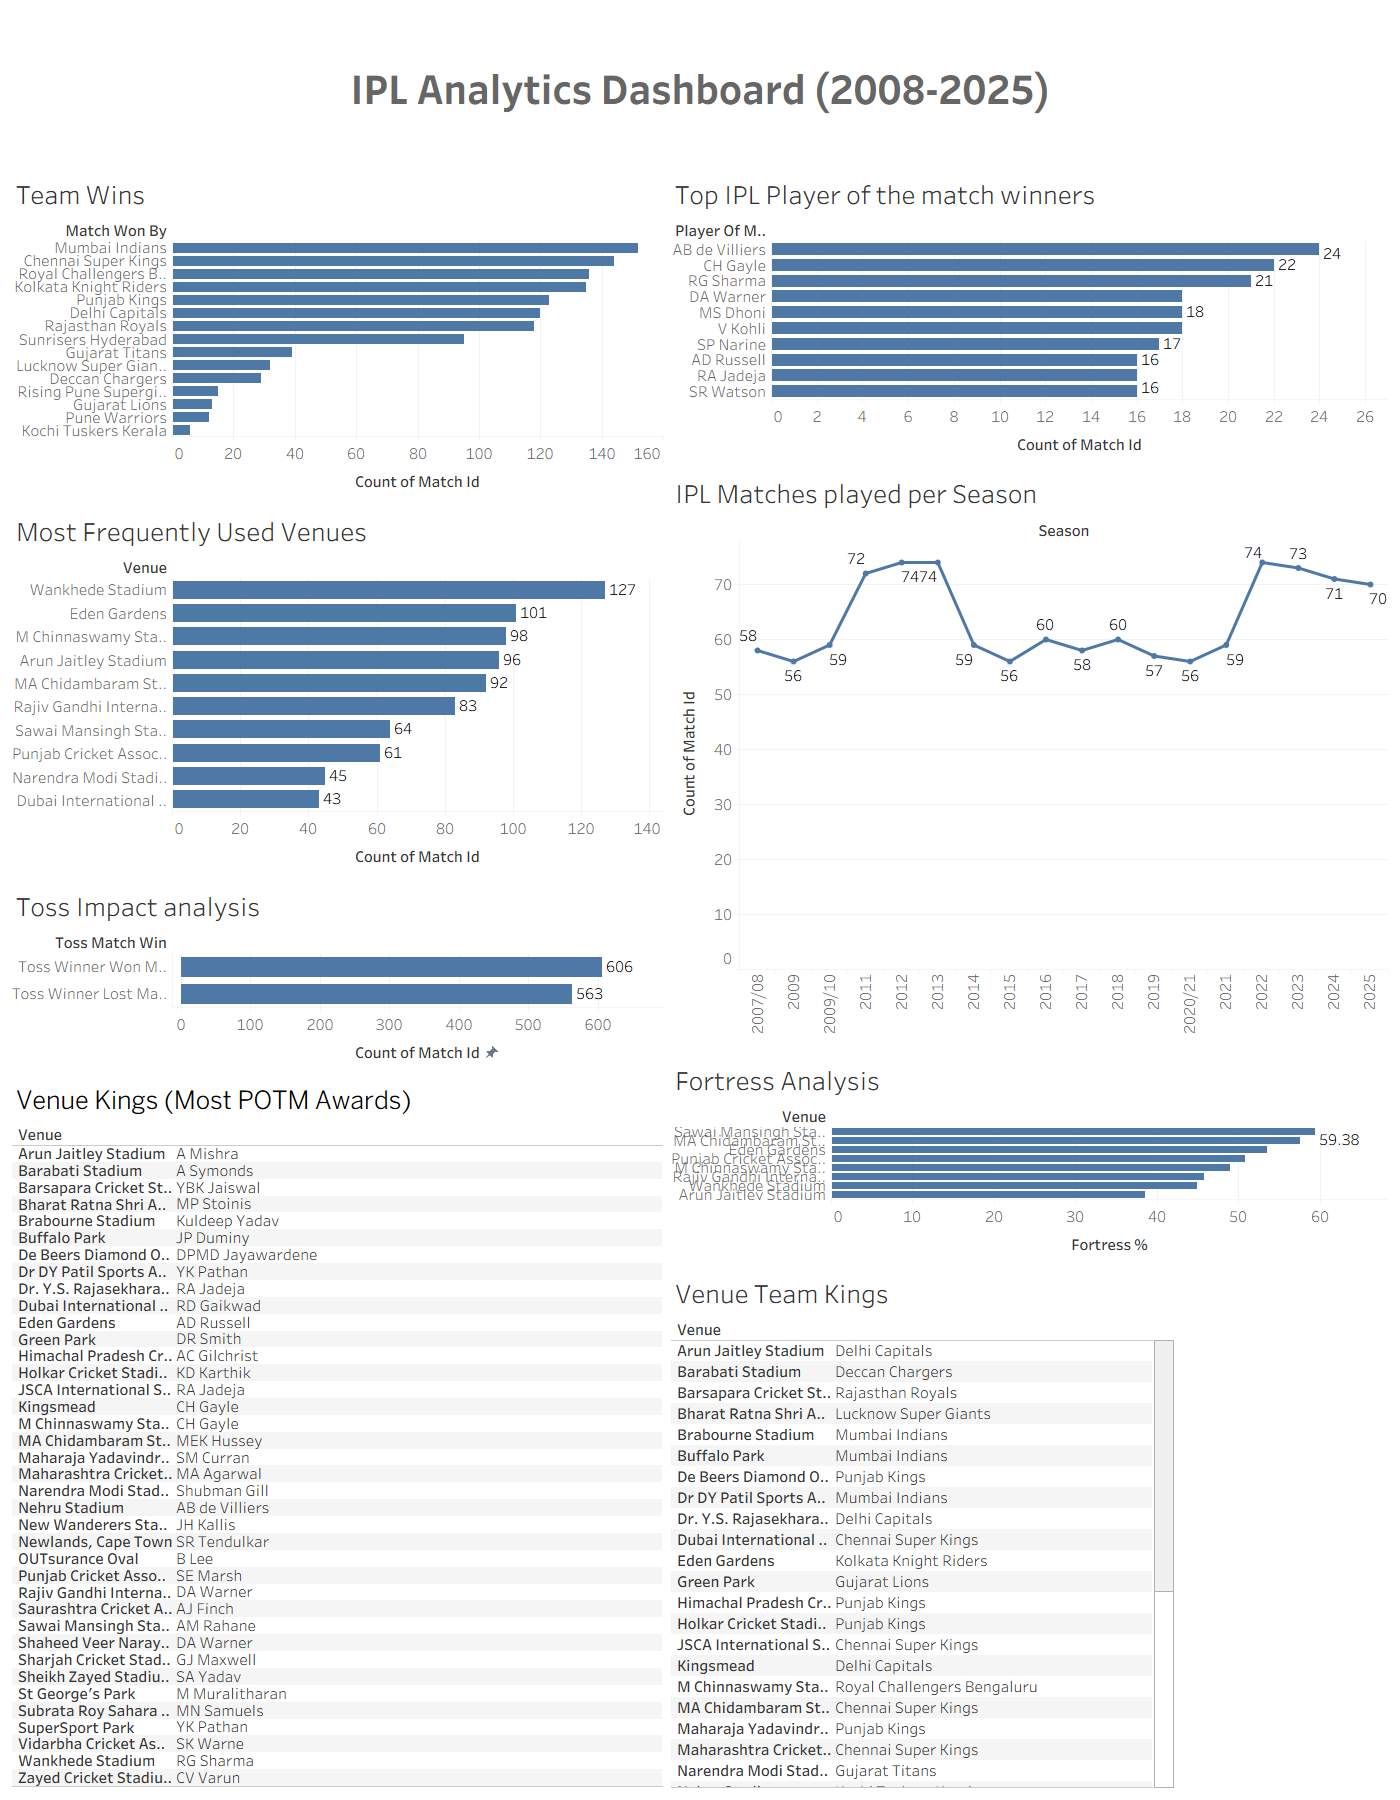

What the dashboard file says about the page in this screenshot:
{"tool":"tableau","page":{"name":"Dashboard 1","canvas":[1400,1800],"ordinal":0},"visuals":[{"type":"text","box":[8,8,1384,159]},{"type":"worksheet","title":"Team Wins","mark":"Automatic","rows":["match_won_by"],"cols":["match_id"],"box":[8,167,659,337]},{"type":"worksheet","title":"TOP POTM Winners","mark":"Automatic","rows":["player_of_match"],"cols":["match_id"],"box":[667,167,725,299]},{"type":"worksheet","title":"IPL Matches played per Season","mark":"Line","rows":["match_id"],"cols":["season"],"box":[667,466,725,587]},{"type":"worksheet","title":"Top IPL Venues","mark":"Automatic","rows":["venue"],"cols":["match_id"],"box":[8,504,659,375]},{"type":"worksheet","title":"Toss Impact analysis","mark":"Automatic","rows":["toss_match_win"],"cols":["match_id"],"box":[8,879,659,195]},{"type":"worksheet","title":"Fortress Analysis","mark":"Automatic","rows":["Venue"],"cols":["Fortress %"],"box":[667,1053,725,213.1]},{"type":"worksheet","title":"King Of The Venue","mark":"Automatic","rows":["venue"],"box":[8,1074,659,717.5]},{"type":"worksheet","title":"Venue Team Kings","mark":"Automatic","rows":["venue"],"box":[667,1266.1,725,525.9]}]}

Visuals, with their boxes in screenshot pixels (x1, y1, x2, y2), scaled from the page's 1400x1800 canvas onto the 1400x1800 screenshot:
text: (8, 8, 1392, 167)
"Team Wins" worksheet: (8, 167, 667, 504)
"TOP POTM Winners" worksheet: (667, 167, 1392, 466)
"IPL Matches played per Season" worksheet (Line marks): (667, 466, 1392, 1053)
"Top IPL Venues" worksheet: (8, 504, 667, 879)
"Toss Impact analysis" worksheet: (8, 879, 667, 1074)
"Fortress Analysis" worksheet: (667, 1053, 1392, 1266)
"King Of The Venue" worksheet: (8, 1074, 667, 1792)
"Venue Team Kings" worksheet: (667, 1266, 1392, 1792)
